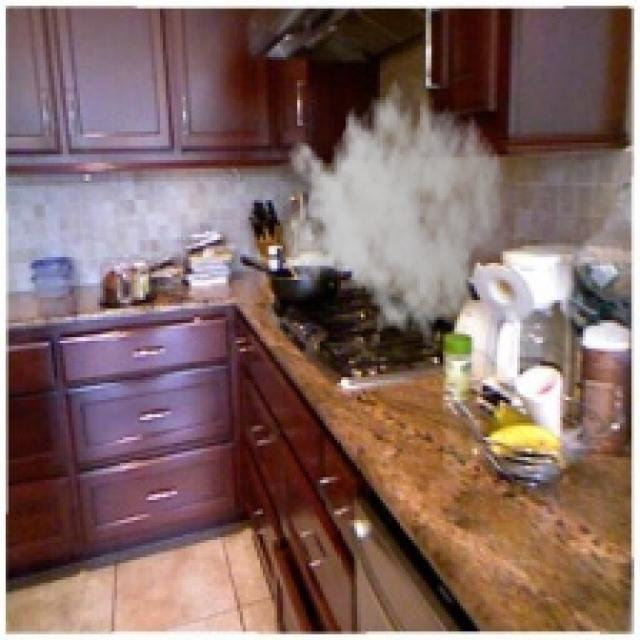Smoke: (280, 63, 506, 343)
